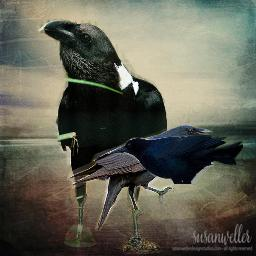Crow: (37, 19, 167, 254), (67, 125, 213, 231), (109, 134, 243, 184)
